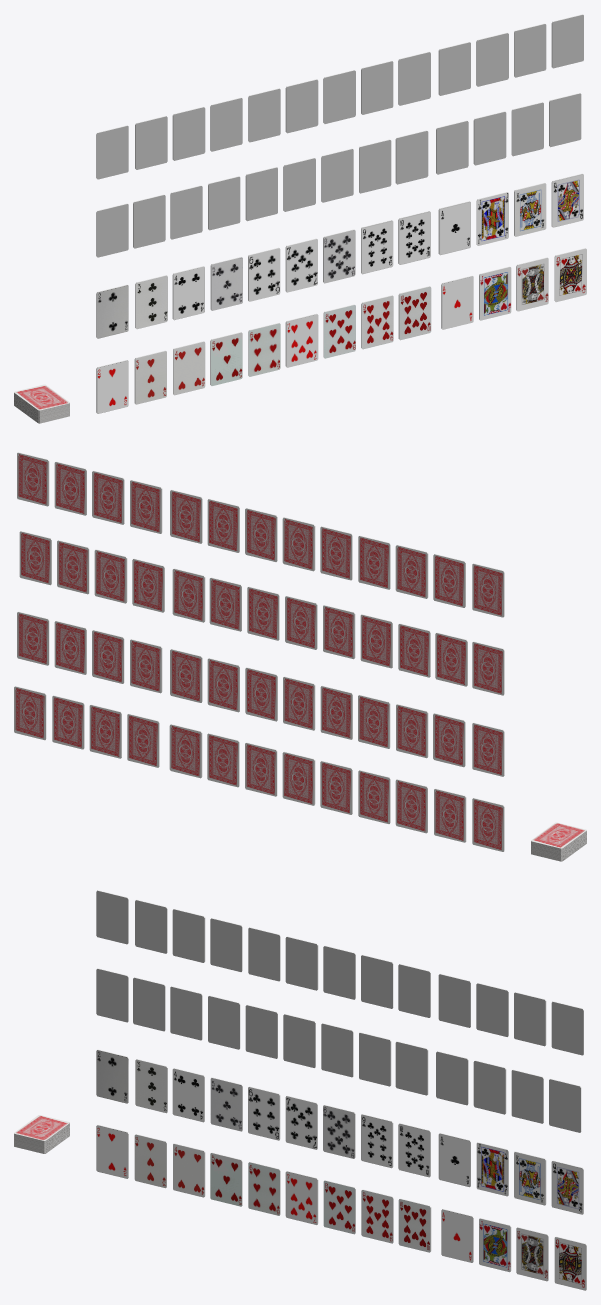
The model's file is Baraja Francesa.fbx.
3 views of the same model, one above another, from view 1: azimuth 30°, elevation 25°; view 2: azimuth 150°, elevation 25°; view 3: azimuth 330°, elevation 25° (orthographic).
Parts seen in each view (by area): view 1: DiezCorazones, SieteCorazones, SietePicas, CuatroPica, DiezDiamante, JDiamante, CuatroDiamante, DosPica, KCorazones, NueveCorazones, OchoDiamante, SeisPicas (+41 smaller); view 2: DiezCorazones, SieteCorazones, SietePicas, CuatroPica, DiezDiamante, JDiamante, CuatroDiamante, DosPica, KCorazones, NueveCorazones, OchoDiamante, SeisPicas (+41 smaller); view 3: CuatroPica, DiezCorazones, SieteCorazones, DiezDiamante, JDiamante, SietePicas, CincoCorazones, CuatroDiamante, NueveCorazones, OchoDiamante, SeisPicas, TresDiamante (+41 smaller).
Boxes of the visible parts, x1=… form: DiezCorazones: x1=398, y1=286, x2=431, y2=340; SieteCorazones: x1=285, y1=313, x2=318, y2=367; SietePicas: x1=285, y1=79, x2=318, y2=133; CuatroPica: x1=172, y1=107, x2=205, y2=160; DiezDiamante: x1=395, y1=130, x2=428, y2=184; JDiamante: x1=473, y1=111, x2=506, y2=165; CuatroDiamante: x1=170, y1=185, x2=202, y2=239; DosPica: x1=96, y1=125, x2=128, y2=179; KCorazones: x1=516, y1=257, x2=548, y2=311; NueveCorazones: x1=361, y1=295, x2=393, y2=349; OchoDiamante: x1=321, y1=148, x2=353, y2=202; SeisPicas: x1=248, y1=88, x2=280, y2=142; DiezCorazones: x1=169, y1=724, x2=202, y2=778; SieteCorazones: x1=282, y1=751, x2=315, y2=805; SietePicas: x1=282, y1=517, x2=315, y2=571; CuatroPica: x1=395, y1=545, x2=428, y2=598; DiezDiamante: x1=172, y1=568, x2=205, y2=622; JDiamante: x1=94, y1=549, x2=127, y2=603; CuatroDiamante: x1=398, y1=623, x2=430, y2=677; DosPica: x1=472, y1=563, x2=504, y2=617; KCorazones: x1=52, y1=695, x2=84, y2=749; NueveCorazones: x1=207, y1=733, x2=239, y2=787; OchoDiamante: x1=247, y1=586, x2=279, y2=640; SeisPicas: x1=320, y1=526, x2=352, y2=580; CuatroPica: x1=172, y1=909, x2=205, y2=962; DiezCorazones: x1=398, y1=1198, x2=431, y2=1252; SieteCorazones: x1=285, y1=1171, x2=318, y2=1224; DiezDiamante: x1=395, y1=1041, x2=428, y2=1095; JDiamante: x1=473, y1=1060, x2=506, y2=1114; SietePicas: x1=285, y1=936, x2=318, y2=990; CincoCorazones: x1=210, y1=1152, x2=242, y2=1206; CuatroDiamante: x1=170, y1=986, x2=202, y2=1040; NueveCorazones: x1=361, y1=1189, x2=393, y2=1243; OchoDiamante: x1=321, y1=1023, x2=353, y2=1077; SeisPicas: x1=248, y1=927, x2=280, y2=981; TresDiamante: x1=133, y1=977, x2=165, y2=1031.
Bounding box in the file's own units: 22345 × 10703 × 1772.
